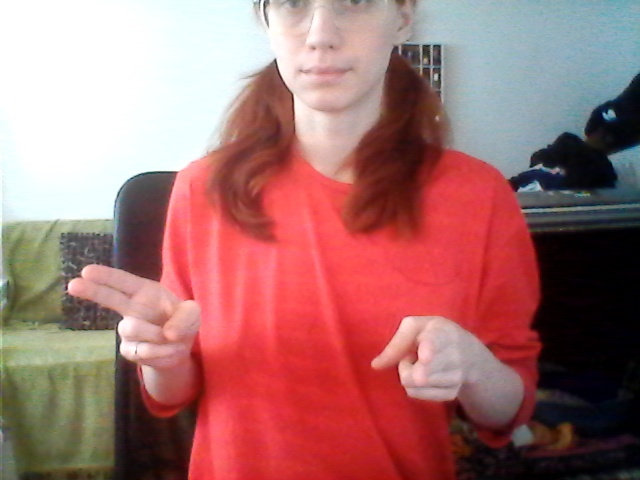ako: (58, 249, 467, 418)
